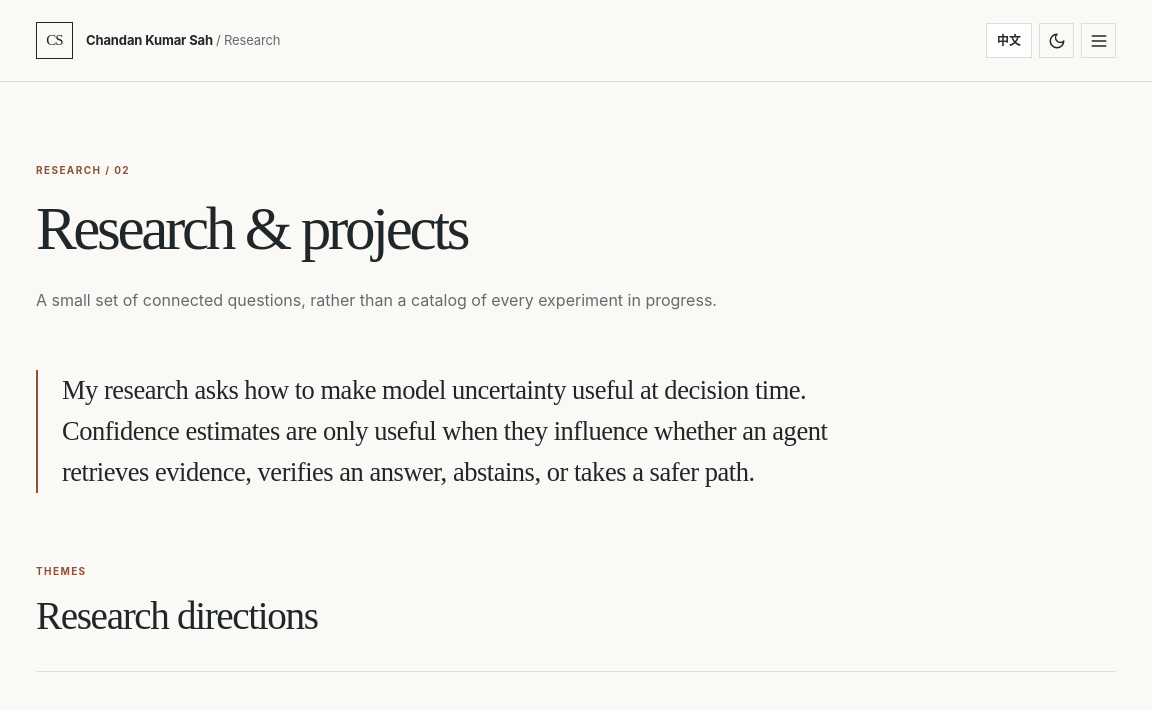
Scenario: professional Simplified Chinese localization › switches navigation, metadata and document language and reverses without changing links
Expected: the heading "Research & projects" is shown, 36,195 -> 467,262
Click the button with aria-label "Switch website to Simplified Chinese": (1009, 40) 986,23 -> 1032,58
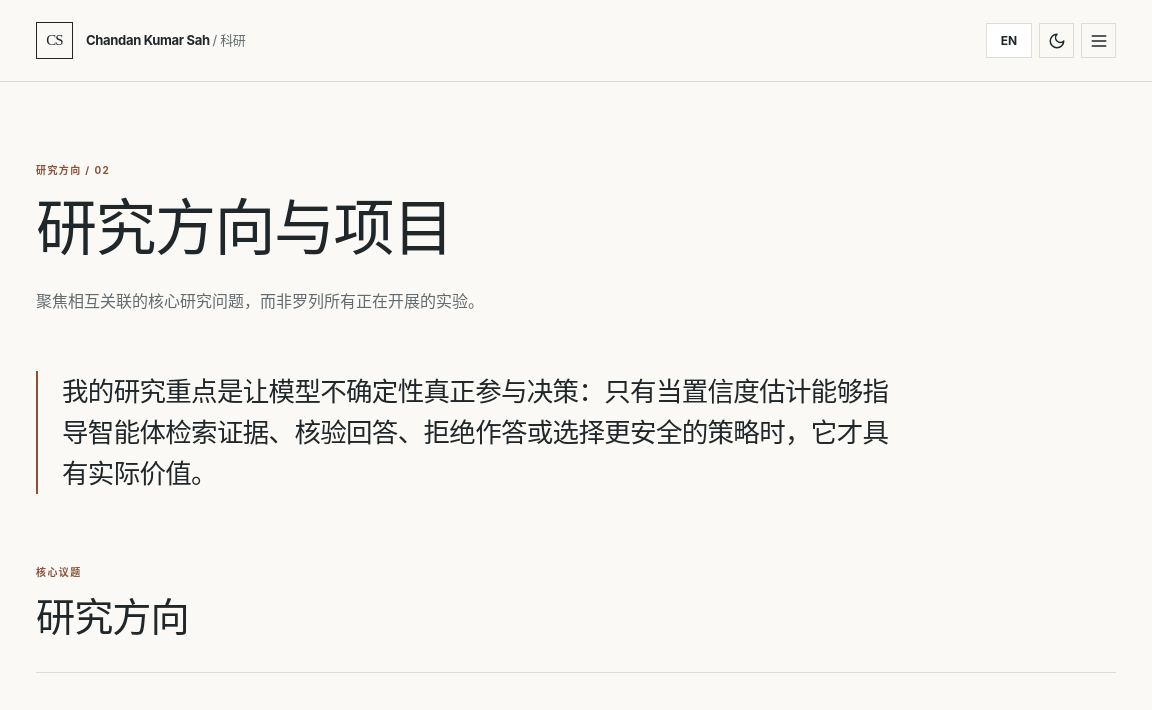
Result: the heading "研究方向与项目" is shown at 36,191 -> 453,265
Click the button with aria-label "切换网站语言为英语": (1009, 40) 986,23 -> 1032,58
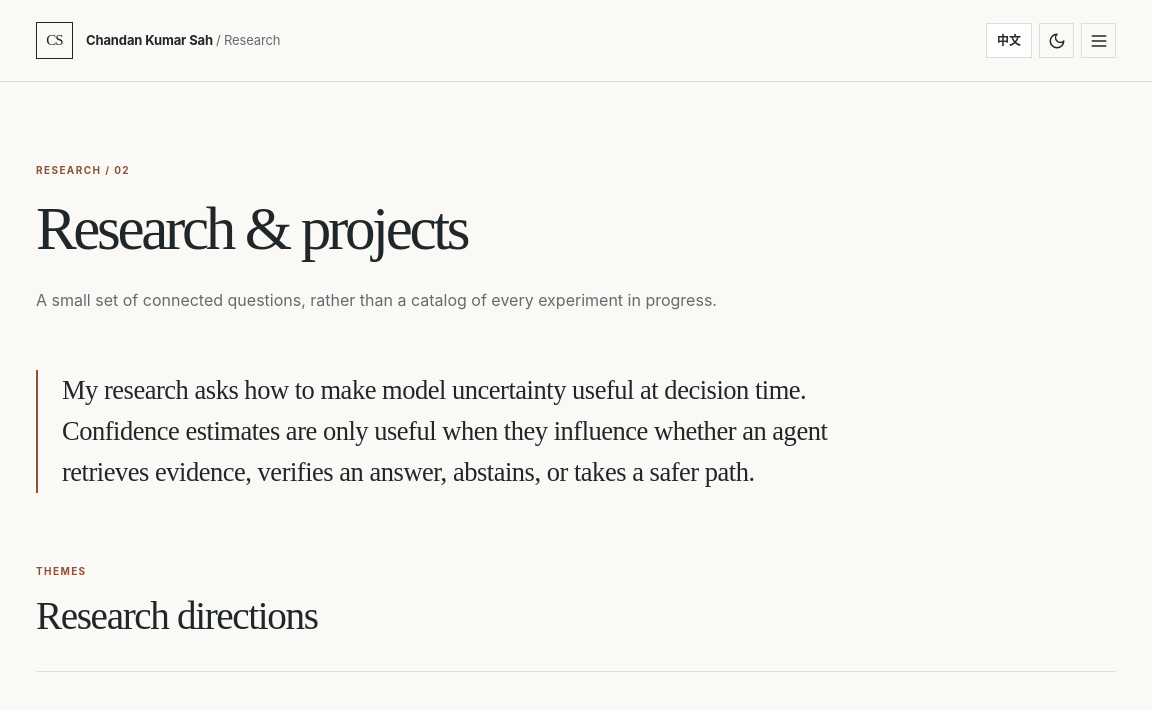
Result: the heading "Research & projects" is shown at 36,195 -> 467,262
